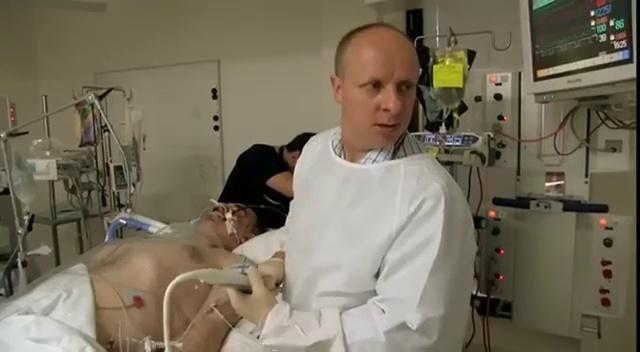doctor: (236, 17, 474, 352)
others: (204, 126, 319, 209)
patient: (2, 196, 270, 352)
